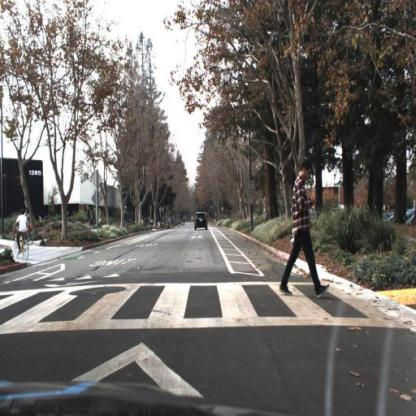biker: (14, 209, 31, 264)
car: (193, 209, 210, 233)
pedestrian: (279, 158, 336, 302), (25, 209, 33, 230)
